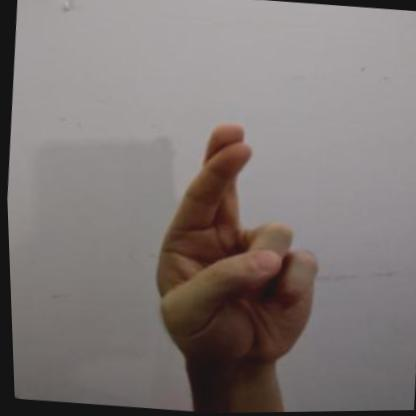R: (119, 104, 347, 389)
